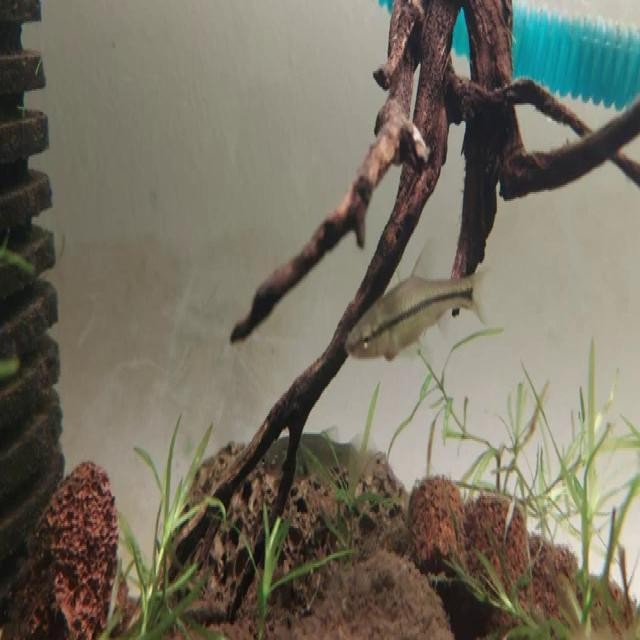Cakil Baligi: (342, 265, 486, 364)
